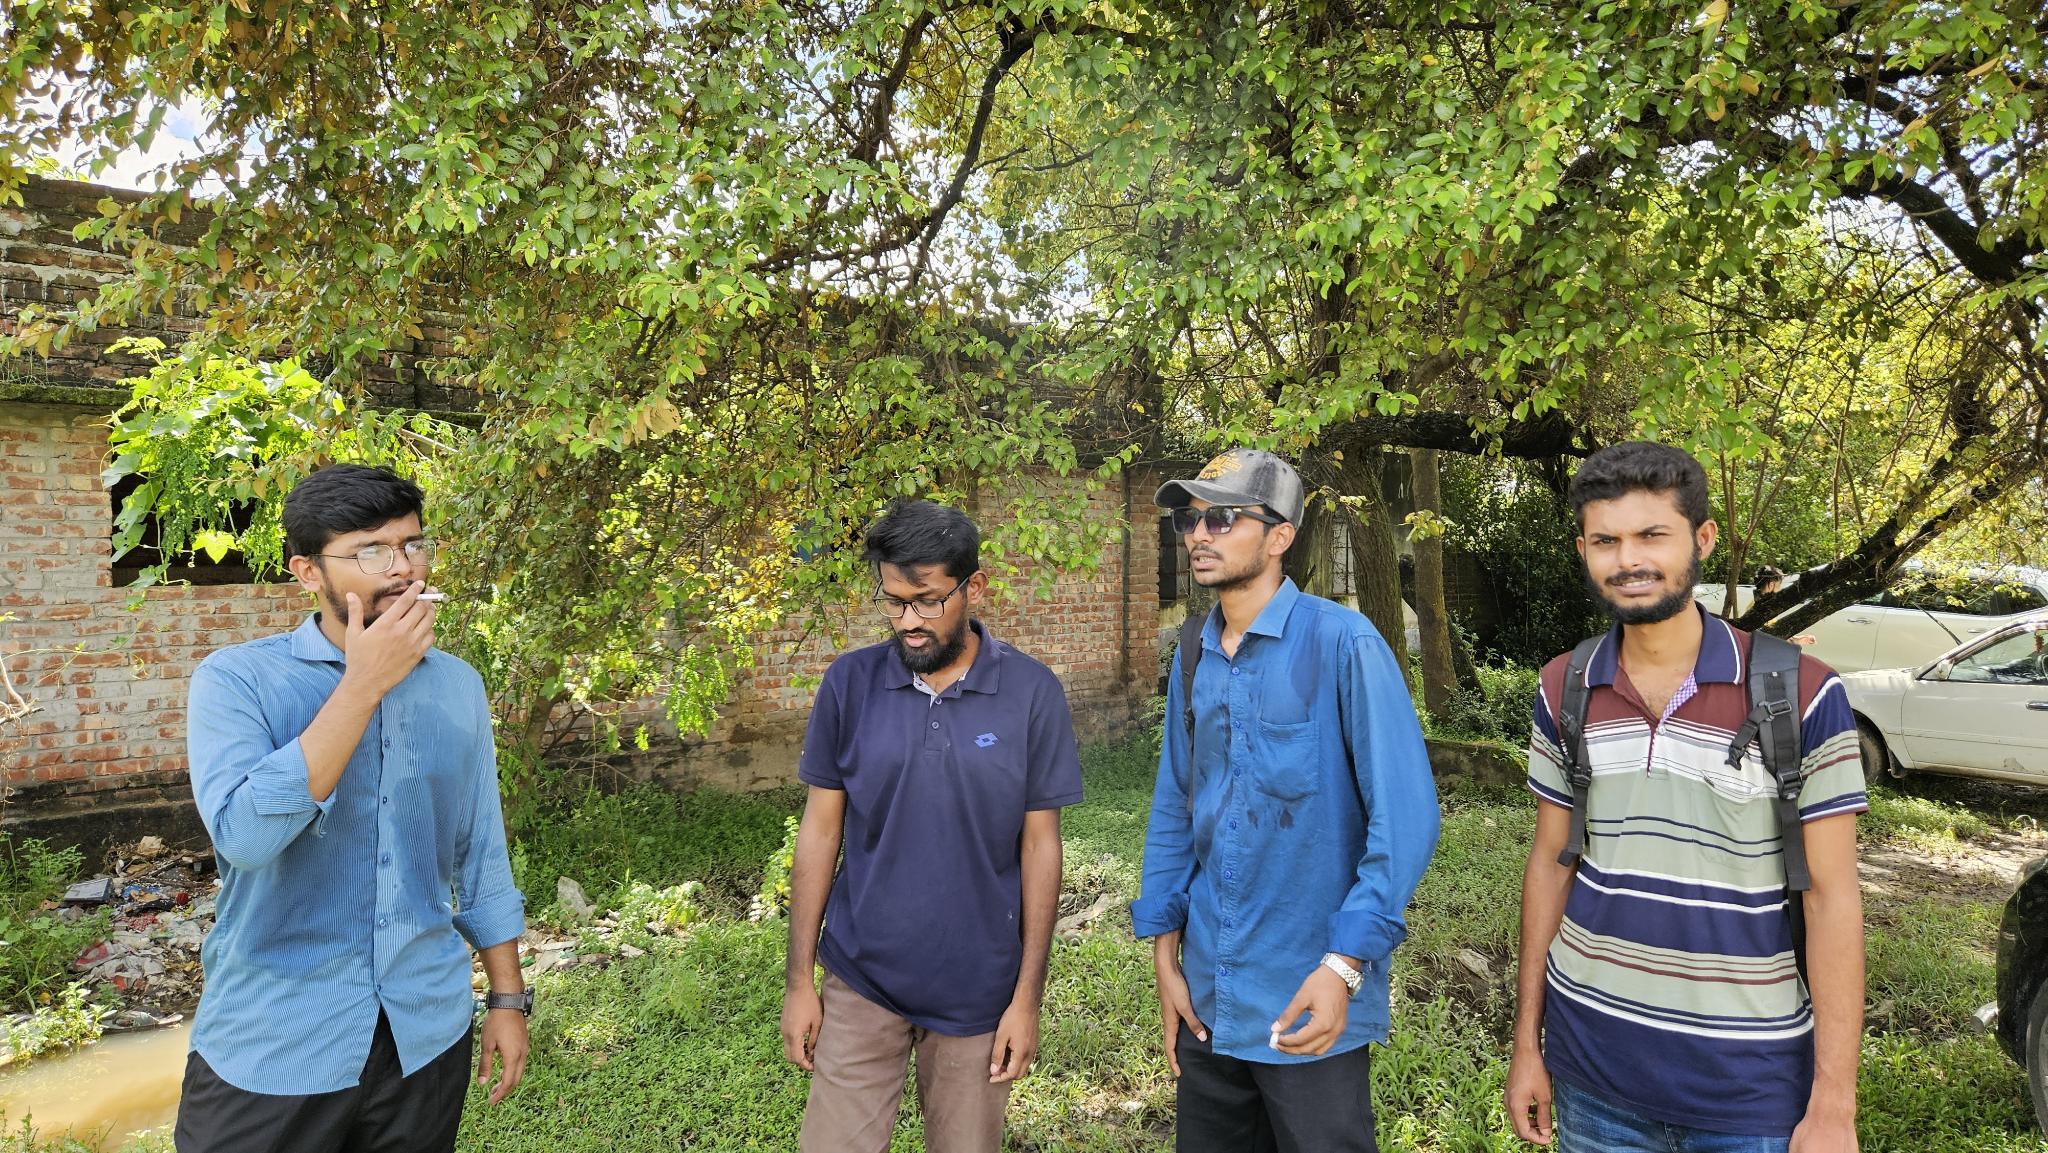cigarette: (411, 589, 452, 605), (1266, 1024, 1284, 1053)
nonSmoker: (1498, 447, 1875, 1153), (776, 494, 1089, 1153)
smoker: (173, 463, 543, 1153), (1132, 433, 1440, 1153)
